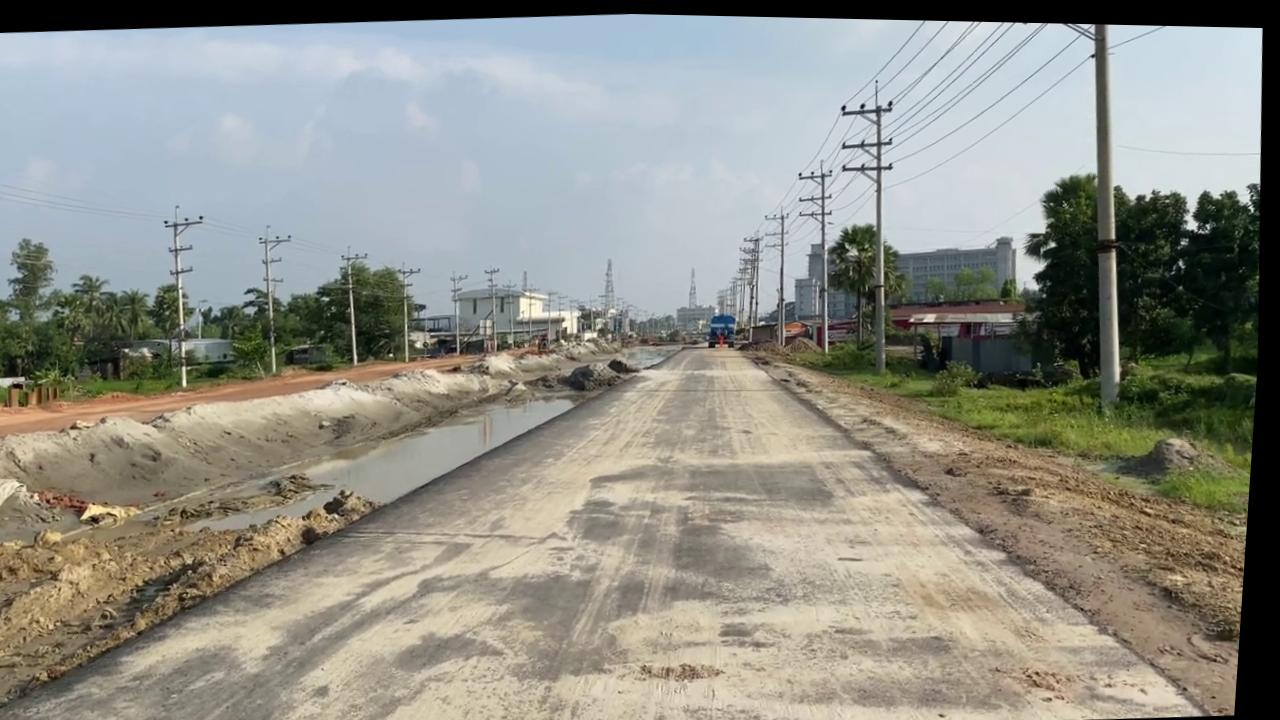Muddy road: (0, 358, 444, 720)
Pole: (1063, 19, 1138, 407), (817, 89, 900, 376), (781, 164, 838, 359), (162, 212, 220, 396)
Rickshaw: (441, 319, 1264, 720)
Sidewalk: (289, 367, 614, 526)
Stuck-water: (713, 336, 725, 352)
Traffic-sign: (1001, 172, 1181, 382), (814, 224, 904, 354)
Tree: (703, 317, 736, 352), (285, 348, 333, 372)
